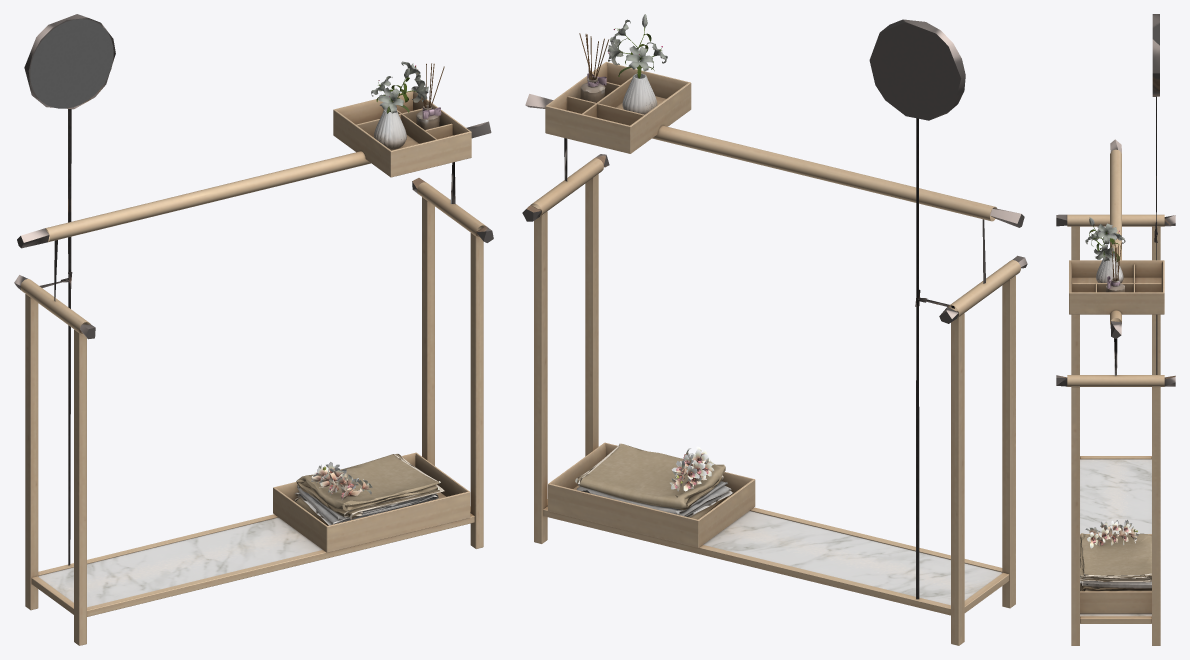
File: raw_model.obj
3 renders of one model, left to right at view 1: azimuth 30°, elevation 25°; view 2: azimuth 150°, elevation 25°; view 3: azimuth 270°, elevation 25°, orthographic. The views are drawn at different scales.
Visible parts, largest first — view 1: solid_002, solid_003, solid_001, solid_015, solid_005, solid_012, glass_002, solid_018, solid_017; view 2: solid_002, solid_003, solid_005, solid_015, solid_012, glass_002, solid_018, solid_017; view 3: solid_002, solid_003, solid_015, solid_005, solid_012, glass_002, solid_018, solid_017, solid_014, solid_009.
Boxes of the visible parts, x1=… form: solid_002: x1=20, y1=90, x2=485, y2=645; solid_003: x1=38, y1=513, x2=470, y2=607; solid_001: x1=30, y1=19, x2=113, y2=108; solid_015: x1=295, y1=454, x2=441, y2=525; solid_005: x1=14, y1=14, x2=493, y2=565; solid_012: x1=311, y1=462, x2=372, y2=500; glass_002: x1=371, y1=61, x2=428, y2=113; solid_018: x1=374, y1=107, x2=406, y2=150; solid_017: x1=297, y1=485, x2=437, y2=524; solid_002: x1=531, y1=62, x2=1020, y2=645; solid_003: x1=547, y1=506, x2=1002, y2=605; solid_005: x1=522, y1=19, x2=1027, y2=599; solid_015: x1=577, y1=443, x2=727, y2=519; solid_012: x1=670, y1=446, x2=714, y2=491; glass_002: x1=607, y1=14, x2=667, y2=71; solid_018: x1=622, y1=73, x2=657, y2=114; solid_017: x1=577, y1=481, x2=730, y2=516; solid_002: x1=1067, y1=149, x2=1164, y2=645; solid_003: x1=1080, y1=459, x2=1151, y2=616; solid_015: x1=1080, y1=533, x2=1151, y2=591; solid_005: x1=1056, y1=14, x2=1175, y2=386; solid_012: x1=1085, y1=520, x2=1138, y2=548; glass_002: x1=1085, y1=217, x2=1125, y2=261; solid_018: x1=1096, y1=253, x2=1123, y2=282; solid_017: x1=1081, y1=581, x2=1151, y2=588; solid_014: x1=1080, y1=573, x2=1151, y2=582; solid_009: x1=1111, y1=242, x2=1121, y2=280.
Size of the model in its own units: 1.5 by 1.78 by 0.399.
1 material, 1 textured.
